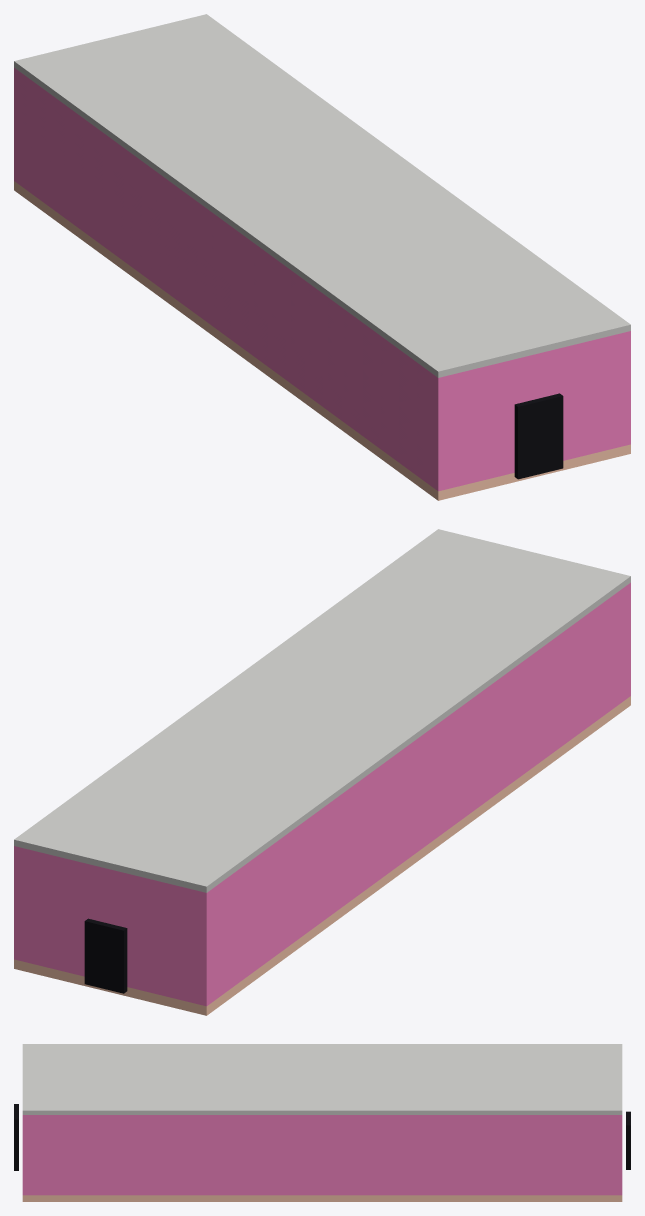
File: rdwe_shrink_hall.glb
3 renders of one model, top to bottom at view 1: azimuth 30°, elevation 25°; view 2: azimuth 150°, elevation 25°; view 3: azimuth 270°, elevation 25°, orthographic. The views are drawn at different scales.
Visible parts, largest first — view 1: Room_Ceiling, Room_Wall_W_1, Room_Wall_S_1, Room_Wall_S_3, Room_Floor, Beyond_ames, Room_Wall_S_2; view 2: Room_Ceiling, Room_Wall_W_1, Room_Wall_N_1, Room_Wall_N_3, Room_Floor, Beyond_small, Room_Wall_N_2; view 3: Room_Wall_E_1, Room_Ceiling, Room_Floor, Room_Wall_N_3, Room_Wall_S_3, Beyond_ames, Beyond_small.
Boxes of the visible parts, left/top/right/bottom form: Room_Ceiling: left=14, top=14, right=630, bottom=377; Room_Wall_W_1: left=17, top=70, right=434, bottom=488; Room_Wall_S_1: left=434, top=358, right=518, bottom=491; Room_Wall_S_3: left=550, top=331, right=630, bottom=460; Room_Floor: left=14, top=181, right=630, bottom=500; Beyond_ames: left=514, top=393, right=563, bottom=479; Room_Wall_S_2: left=519, top=351, right=550, bottom=403; Room_Ceiling: left=14, top=529, right=630, bottom=892; Room_Wall_W_1: left=210, top=585, right=627, bottom=1003; Room_Wall_N_1: left=123, top=872, right=210, bottom=1006; Room_Wall_N_3: left=14, top=846, right=97, bottom=976; Room_Floor: left=14, top=696, right=630, bottom=1015; Beyond_small: left=84, top=918, right=127, bottom=993; Room_Wall_N_2: left=97, top=866, right=122, bottom=926; Room_Wall_E_1: left=27, top=1115, right=617, bottom=1195; Room_Ceiling: left=22, top=1044, right=622, bottom=1114; Room_Floor: left=22, top=1195, right=622, bottom=1201; Room_Wall_N_3: left=617, top=1115, right=622, bottom=1195; Room_Wall_S_3: left=22, top=1115, right=27, bottom=1195; Beyond_ames: left=14, top=1104, right=18, bottom=1170; Beyond_small: left=626, top=1111, right=630, bottom=1169.
Size of the model in its own units: 6.4 by 4.1 by 25.1.
